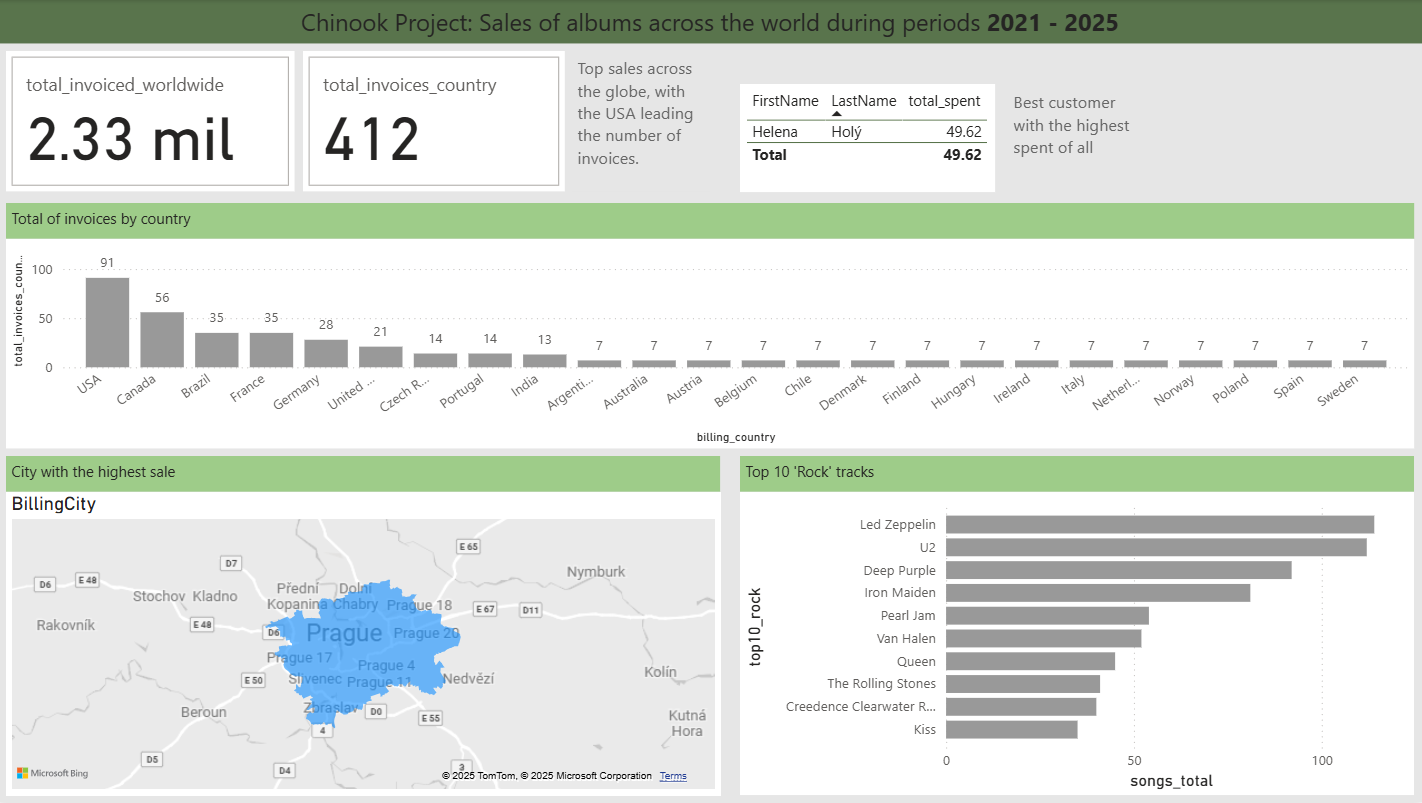

What the dashboard file says about the page in this screenshot:
{"tool":"powerbi","page":{"name":"Página 1","canvas":[1280,720],"ordinal":0},"visuals":[{"type":"clusteredColumnChart","fields":{"Category":["chinook top_performers.BillingCountry"],"Y":["chinook top_performers.number_invoices"]},"box":[8.1,214.4,1263.9,188.4],"z":0},{"type":"textbox","box":[0,0,1280,39.5],"z":1000},{"type":"barChart","fields":{"Category":["chinook top_performers4.Name"],"Y":["chinook top_performers4.song"]},"box":[667.4,441.3,604.6,271.8],"z":2000},{"type":"cardVisual","fields":{"Data":["chinook top_performers.number_invoices"]},"box":[274.5,45.7,235,126.5],"z":3000},{"type":"tableEx","fields":{"Values":["chinook top_performers5.FirstName","chinook top_performers5.LastName","chinook top_performers5.total_spent"]},"box":[666.9,75.4,228.9,96.9],"z":4000},{"type":"filledMap","fields":{"Category":["chinook top_performers2.BillingCity"]},"box":[8.1,441.3,641.3,271.8],"z":5000},{"type":"cardVisual","fields":{"Data":["chinook invoice.Total"]},"box":[8.1,45.7,259.2,126.5],"z":6000},{"type":"textbox","box":[516.1,46.1,124.1,125.9],"z":7000},{"type":"textbox","box":[907.5,76.3,123,96],"z":8000},{"type":"textbox","box":[8.1,409,641.3,32.3],"z":9000},{"type":"textbox","box":[667.4,409,604.6,32.3],"z":10000},{"type":"textbox","box":[8.1,182.1,1263.9,32.3],"z":11000}]}

Visuals, with their boxes in screenshot pixels (x1, y1, x2, y2), scaled from the page's 1280x720 canvas onto the 1422x803 screenshot:
clusteredColumnChart - chinook top_performers.BillingCountry x chinook top_performers.number_invoices: (left=9, top=239, right=1413, bottom=449)
textbox: (left=0, top=0, right=1421, bottom=44)
barChart - chinook top_performers4.Name x chinook top_performers4.song: (left=741, top=492, right=1413, bottom=795)
cardVisual - chinook top_performers.number_invoices: (left=305, top=51, right=566, bottom=192)
tableEx - chinook top_performers5.FirstName x chinook top_performers5.LastName: (left=741, top=84, right=995, bottom=192)
filledMap - chinook top_performers2.BillingCity: (left=9, top=492, right=721, bottom=795)
cardVisual - chinook invoice.Total: (left=9, top=51, right=297, bottom=192)
textbox: (left=573, top=51, right=711, bottom=192)
textbox: (left=1008, top=85, right=1145, bottom=192)
textbox: (left=9, top=456, right=721, bottom=492)
textbox: (left=741, top=456, right=1413, bottom=492)
textbox: (left=9, top=203, right=1413, bottom=239)
